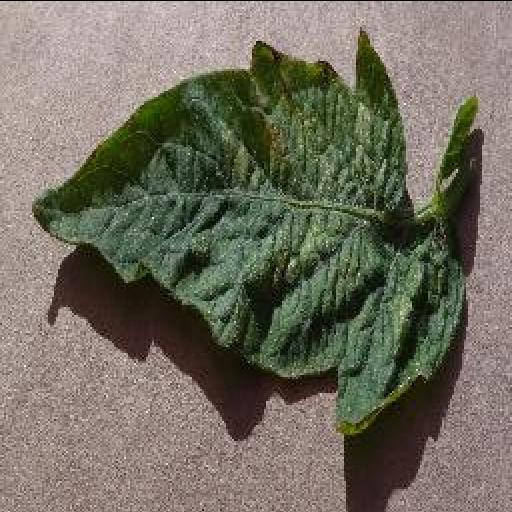disease_tomato: (31, 30, 465, 432)
